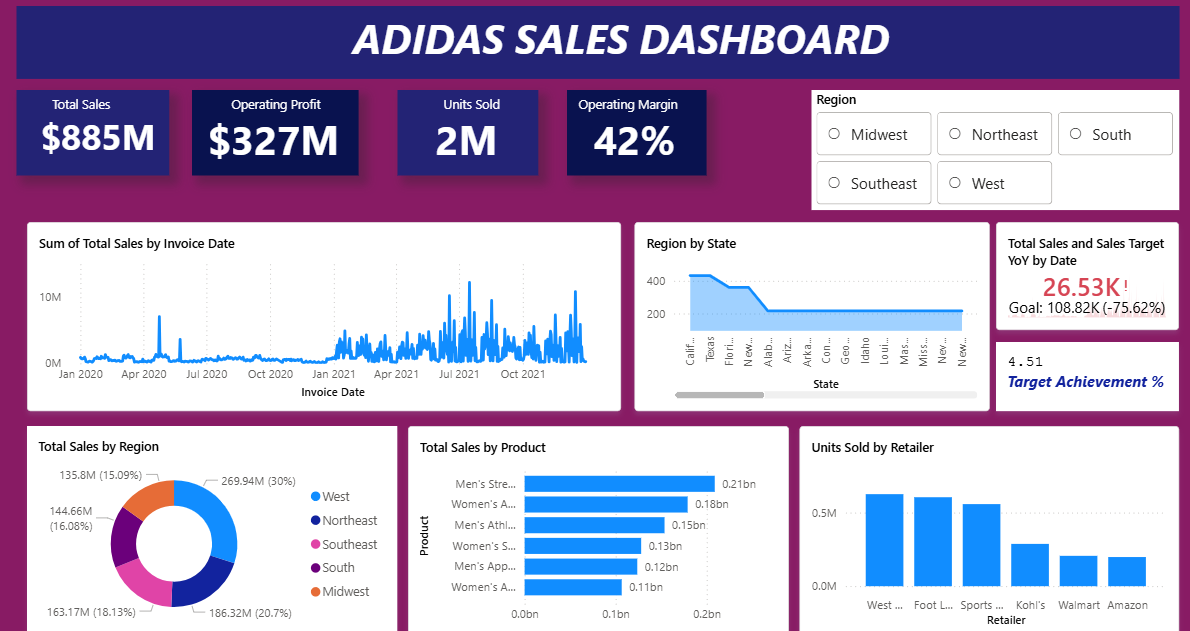

What the dashboard file says about the page in this screenshot:
{"tool":"powerbi","page":{"name":"Page 1","canvas":[1280,720],"ordinal":0},"visuals":[{"type":"clusteredColumnChart","title":"Units Sold by Retailer","fields":{"Category":["Table1.Retailer"],"Y":["Sum(Table1.Units Sold)"]},"box":[854.2,461.3,402.4,225.9],"z":0},{"type":"donutChart","title":"Total Sales by Region","fields":{"Category":["Table1.Region"],"Y":["Sum(Table1.Total Sales)"]},"box":[35,461.3,392.9,225.9],"z":1000},{"type":"areaChart","title":"Region by State","fields":{"Category":["Table1.State"],"Y":["CountNonNull(Table1.Region)"]},"box":[679.2,245,377,200.4],"z":2000},{"type":"barChart","title":"Total Sales by Product","fields":{"Category":["Table1.Product"],"Y":["Sum(Table1.Total Sales)"]},"box":[439,461.3,404,225.9],"z":3000},{"type":"lineChart","fields":{"Category":["Table1.Invoice Date.Variation.Date Hierarchy.Month"],"Y":["Sum(Table1.Total Sales)"]},"box":[35,245,629.9,200.4],"z":4000},{"type":"textbox","box":[24,16.6,1233.2,77.5],"z":5000},{"type":"textbox","box":[23.9,105,162.2,90.7],"z":6000},{"type":"textbox","box":[210,105,176.6,90.7],"z":7000},{"type":"textbox","box":[427.9,105,149.5,90.7],"z":8000},{"type":"textbox","box":[607.6,105,147.9,90.7],"z":9000},{"type":"advancedSlicerVisual","fields":{"Values":["Table1.Region"]},"box":[866.9,105,389.7,127.2],"z":10000},{"type":"kpi","fields":{"TrendLine":["Date.Date"],"Goal":["Date.Sales Target YoY"],"Indicator":["Date.Total Sales"]},"box":[1062.5,245,194.1,114.5],"z":11000},{"type":"multiRowCard","fields":{"Values":["Date.Target Achievement %"]},"box":[1062.5,372.2,194.1,73.2],"z":12000}]}

Visuals, with their boxes on the page's 1280x720 design canvas (x1, y1, x2, y2). These are canvas units, not pixel positions in the 1190x631 screenshot, which may show the page scaled, cropped or inside an application window:
"Units Sold by Retailer" clusteredColumnChart: [x1=854, y1=461, x2=1257, y2=687]
"Total Sales by Region" donutChart: [x1=35, y1=461, x2=428, y2=687]
"Region by State" areaChart: [x1=679, y1=245, x2=1056, y2=445]
"Total Sales by Product" barChart: [x1=439, y1=461, x2=843, y2=687]
lineChart - Table1.Invoice Date.Variation.Date Hierarchy.Month x Sum(Table1.Total Sales): [x1=35, y1=245, x2=665, y2=445]
textbox: [x1=24, y1=17, x2=1257, y2=94]
textbox: [x1=24, y1=105, x2=186, y2=196]
textbox: [x1=210, y1=105, x2=387, y2=196]
textbox: [x1=428, y1=105, x2=577, y2=196]
textbox: [x1=608, y1=105, x2=756, y2=196]
advancedSlicerVisual - Table1.Region: [x1=867, y1=105, x2=1257, y2=232]
kpi - Date.Date x Date.Sales Target YoY: [x1=1062, y1=245, x2=1257, y2=360]
multiRowCard - Date.Target Achievement %: [x1=1062, y1=372, x2=1257, y2=445]
